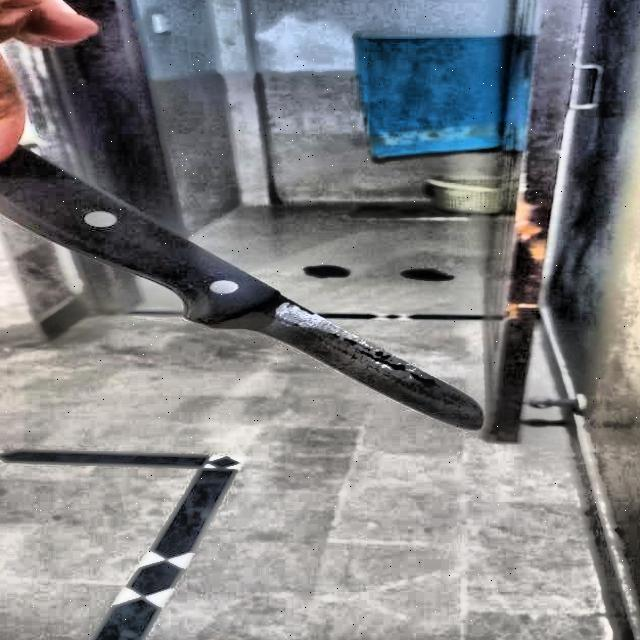knife: (0, 150, 486, 430)
